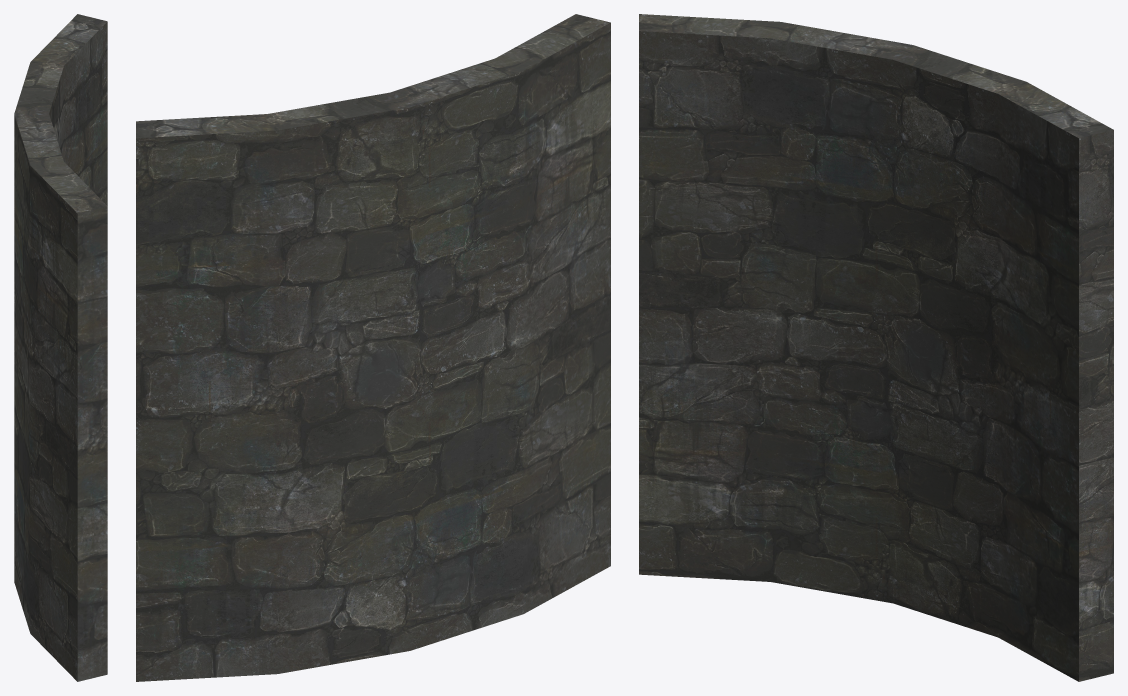
Rendered from Model_CASTLE_TOWER_WALL.FBX.
3 renders of one model, left to right at view 1: azimuth 30°, elevation 25°; view 2: azimuth 150°, elevation 25°; view 3: azimuth 270°, elevation 25°, orthographic. The views are drawn at different scales.
Parts seen in each view (by area): view 1: Model_CASTLE_TOWER_WALL; view 2: Model_CASTLE_TOWER_WALL; view 3: Model_CASTLE_TOWER_WALL.
Part boxes in pixels (box(x1,y1,x2,y2)): Model_CASTLE_TOWER_WALL: box(14, 14, 107, 681); Model_CASTLE_TOWER_WALL: box(136, 14, 610, 681); Model_CASTLE_TOWER_WALL: box(639, 14, 1113, 681).
Bounding box in the file's own units: 109 × 223 × 176.
1 material, 1 textured.
